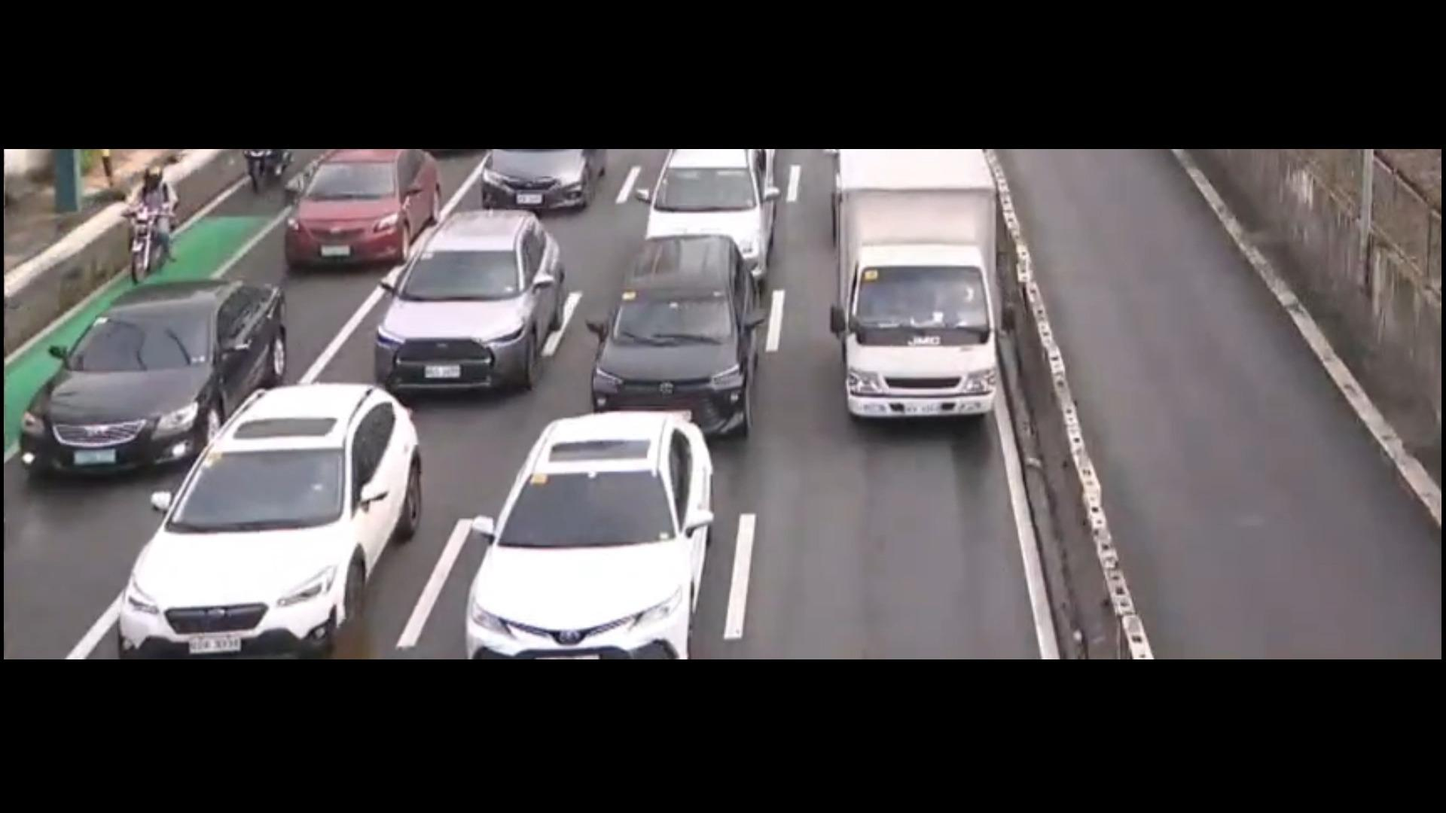Motorcycle: (109, 152, 194, 289)
SUV: (114, 383, 420, 660), (580, 240, 765, 437), (373, 210, 562, 400)
Sedan: (470, 417, 715, 661), (18, 277, 285, 478), (282, 147, 440, 270), (638, 147, 782, 276)
Truck: (830, 147, 1006, 414)
